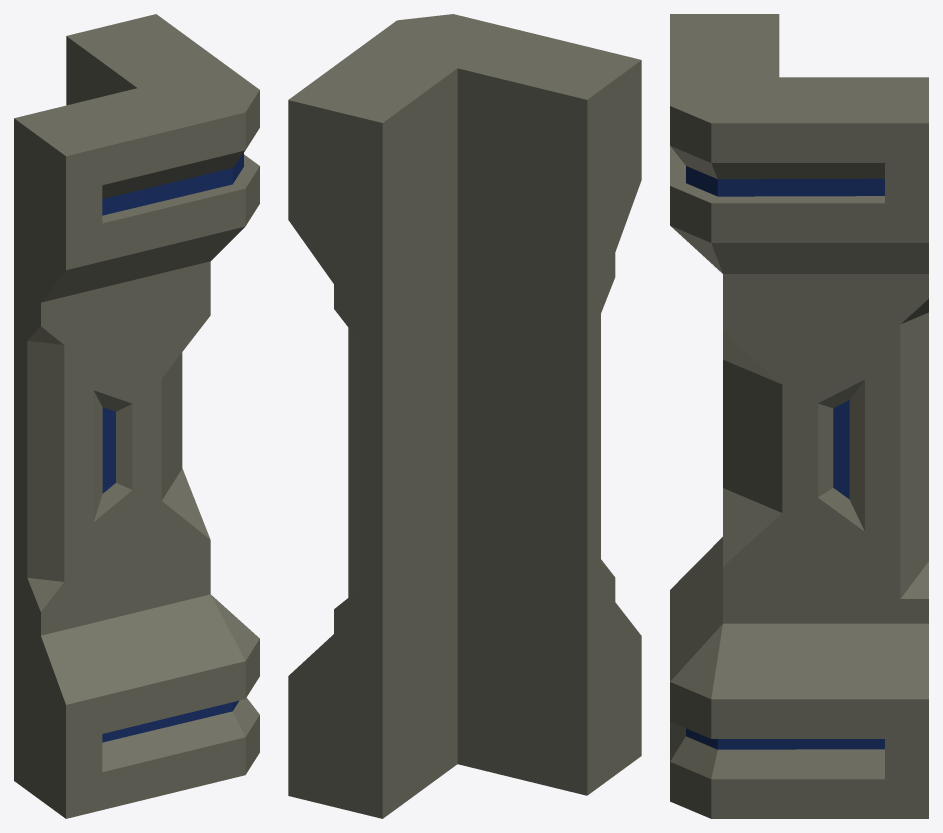
The model's file is LPSciFi_Corner2.fbx.
3 views of the same model, side by side, from view 1: azimuth 30°, elevation 25°; view 2: azimuth 150°, elevation 25°; view 3: azimuth 270°, elevation 25° (orthographic). The views are drawn at different scales.
Visible parts, largest first — view 1: Corner2; view 2: Corner2; view 3: Corner2.
Boxes of the visible parts, x1,y1,x2,y2 form: Corner2: (14,14,259,818); Corner2: (288,14,641,818); Corner2: (670,14,928,818).
Size of the model in its own units: 135 by 400 by 135.
